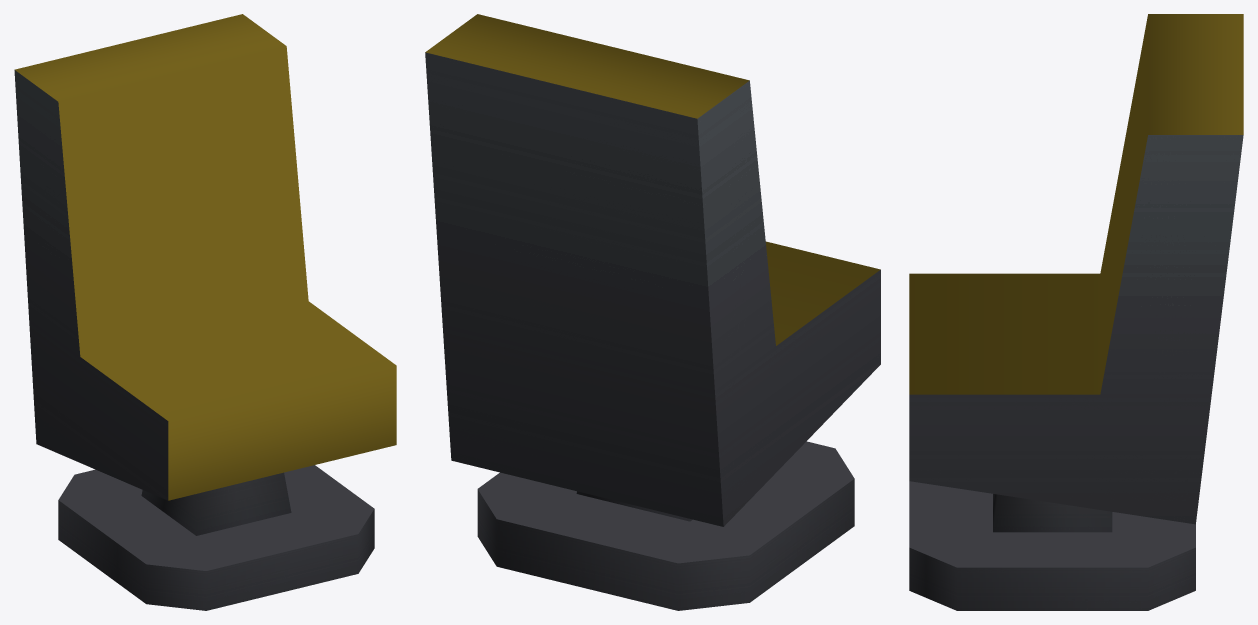
File: s_chair.glb
3 views of the same model, side by side, from view 1: azimuth 30°, elevation 25°; view 2: azimuth 150°, elevation 25°; view 3: azimuth 270°, elevation 25° (orthographic). The views are drawn at different scales.
Parts seen in each view (by area): view 1: chair; view 2: chair; view 3: chair.
Part boxes in pixels (x1=…): chair: x1=14, y1=14, x2=396, y2=610; chair: x1=425, y1=14, x2=880, y2=610; chair: x1=909, y1=14, x2=1243, y2=610.
Bounding box in the file's own units: 0.3 × 0.55 × 0.35.
1 material, 1 textured.
